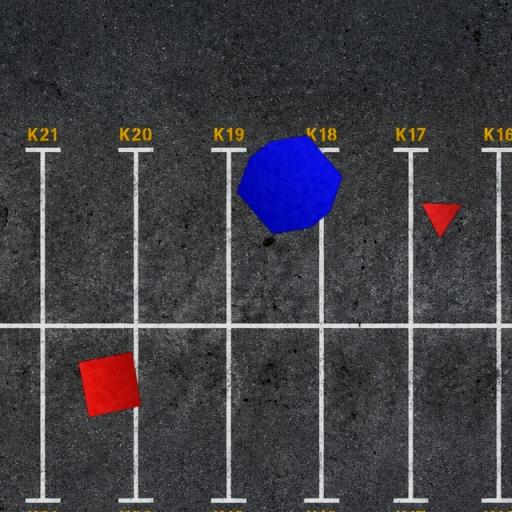RED_SQUARE: (78, 351, 142, 418)
